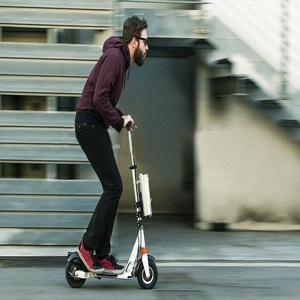human on a scooter: (64, 14, 159, 291)
